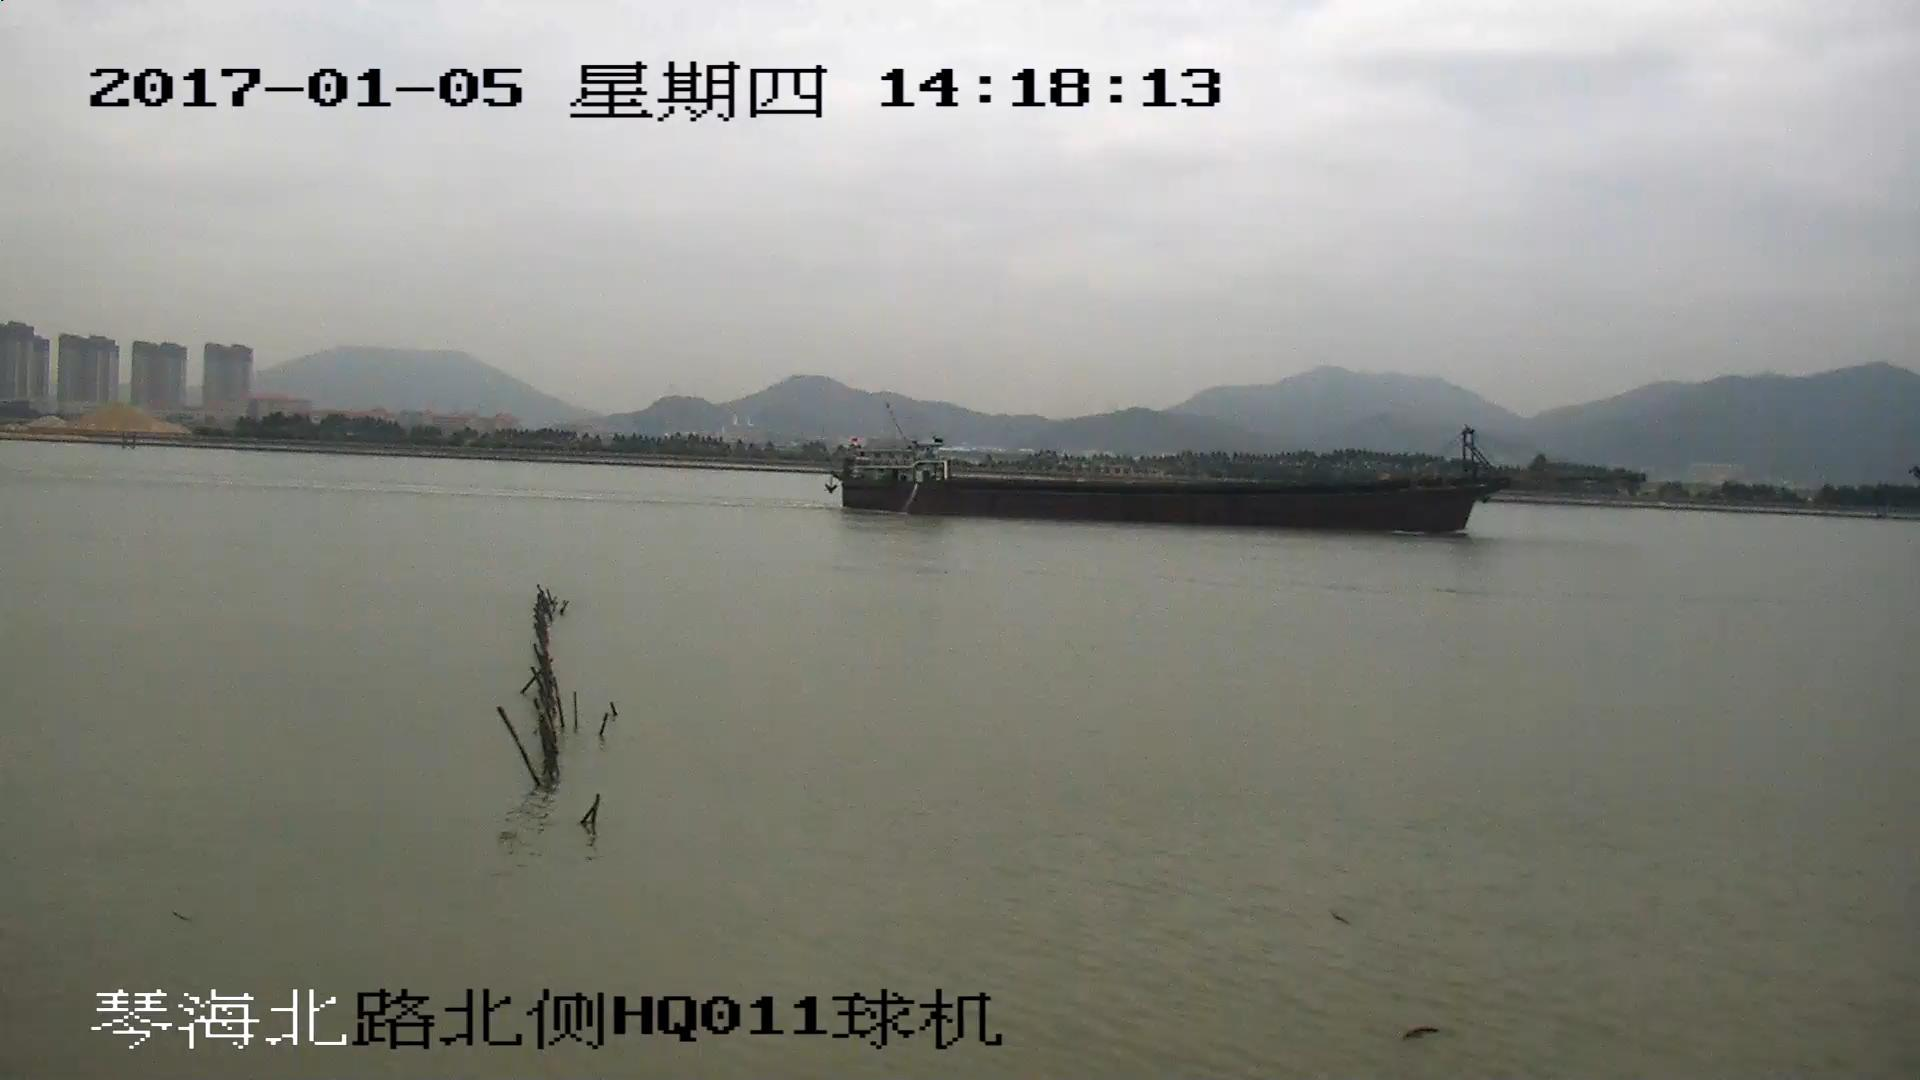Ship: (829, 425, 1651, 534)
